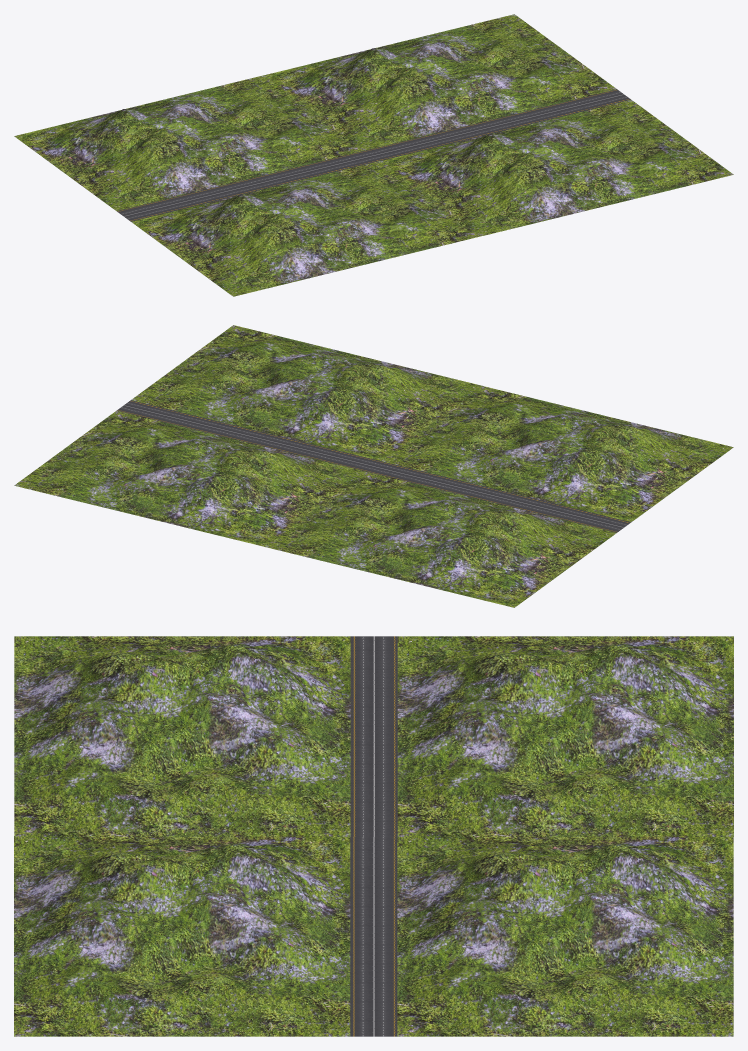
The picture shows the model from 3 angles, top to bottom: view 1: azimuth 30°, elevation 25°; view 2: azimuth 150°, elevation 25°; view 3: azimuth 270°, elevation 25°; orthographic projection. The views are drawn at different scales.
Visible parts, largest first — view 1: ant01.001; view 2: ant01.001; view 3: ant01.001.
Boxes of the visible parts, left/top/right/bottom form: ant01.001: left=14, top=14, right=733, bottom=296; ant01.001: left=14, top=325, right=733, bottom=607; ant01.001: left=14, top=636, right=733, bottom=1036.
Size of the model in its own units: 7.16 by 0.387 by 5.44.
Materials: 2 (2 with a texture image).
